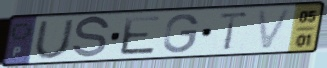E: (119, 14, 163, 57)
G: (162, 13, 202, 56)
S: (70, 14, 113, 61)
T: (216, 10, 252, 52)
U: (32, 18, 77, 61)
V: (255, 6, 296, 52)
